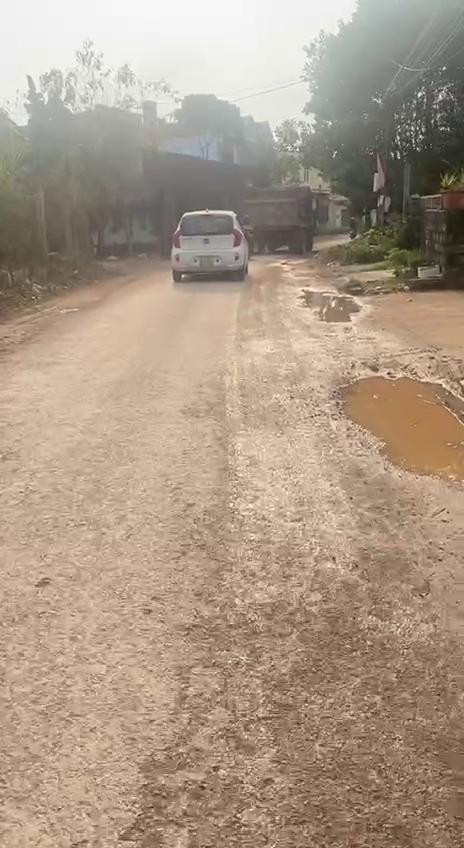pothole: (328, 366, 464, 488), (297, 290, 362, 325)
